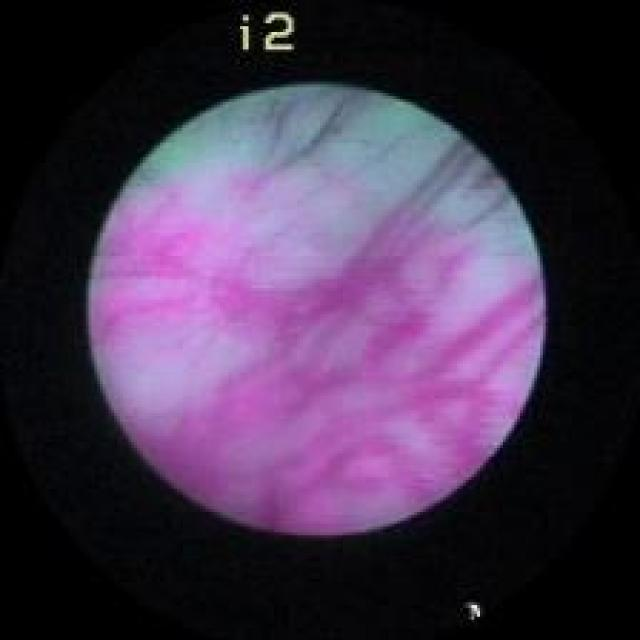color misalignment: (230, 8, 294, 59), (457, 588, 489, 629)
